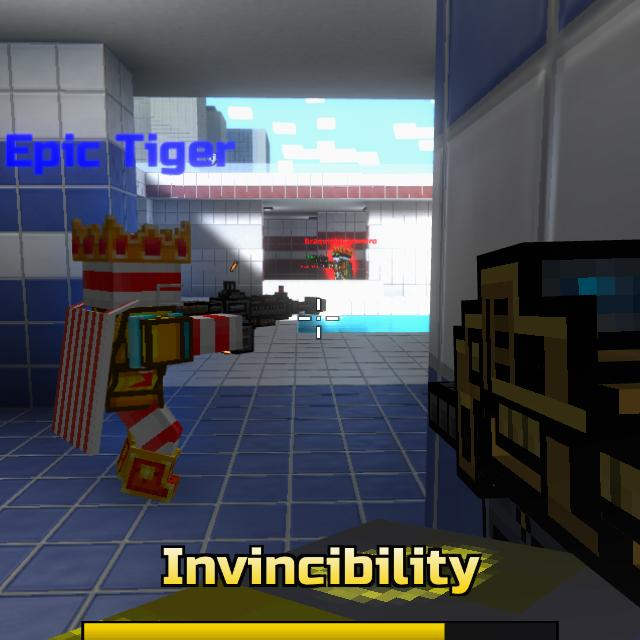Enemy: (325, 248, 353, 280)
